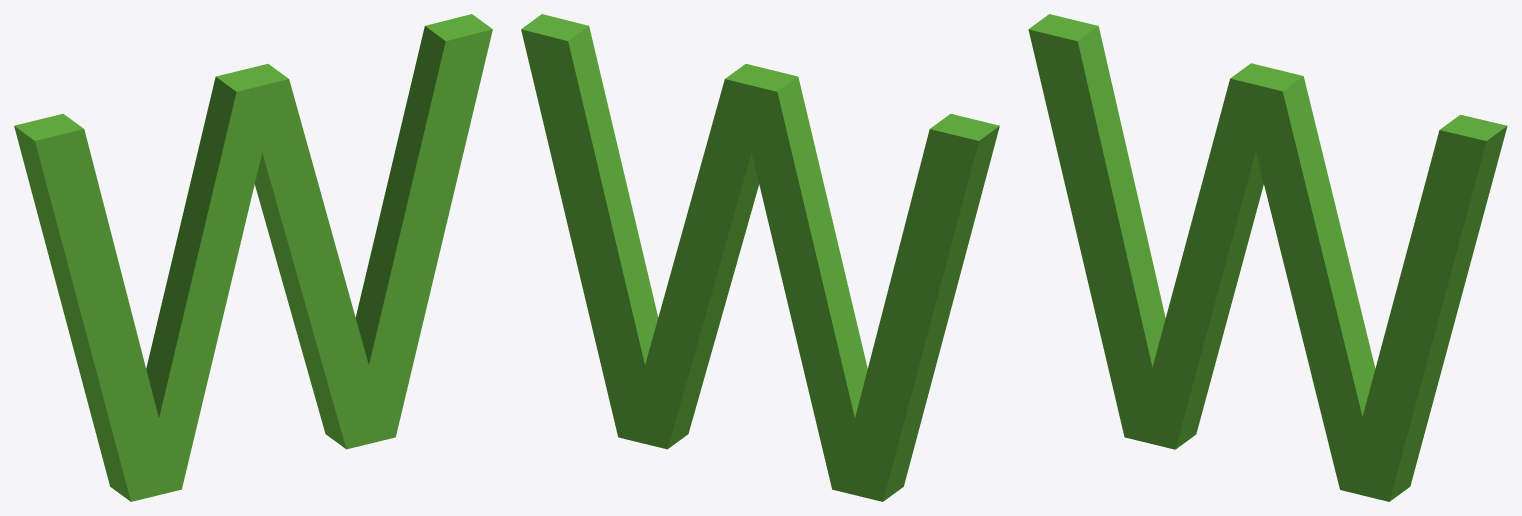
Rendered from letras.obj.
3 renders of one model, left to right at view 1: azimuth 30°, elevation 25°; view 2: azimuth 150°, elevation 25°; view 3: azimuth 330°, elevation 25°, orthographic.
Visible parts, largest first — view 1: W; view 2: W; view 3: W.
Part boxes in pixels (left/top/right/bottom): W: left=14, top=14, right=492, bottom=501; W: left=521, top=14, right=999, bottom=501; W: left=1028, top=14, right=1507, bottom=501.
Bounding box in the file's own units: 1.26 × 1.01 × 0.1.
